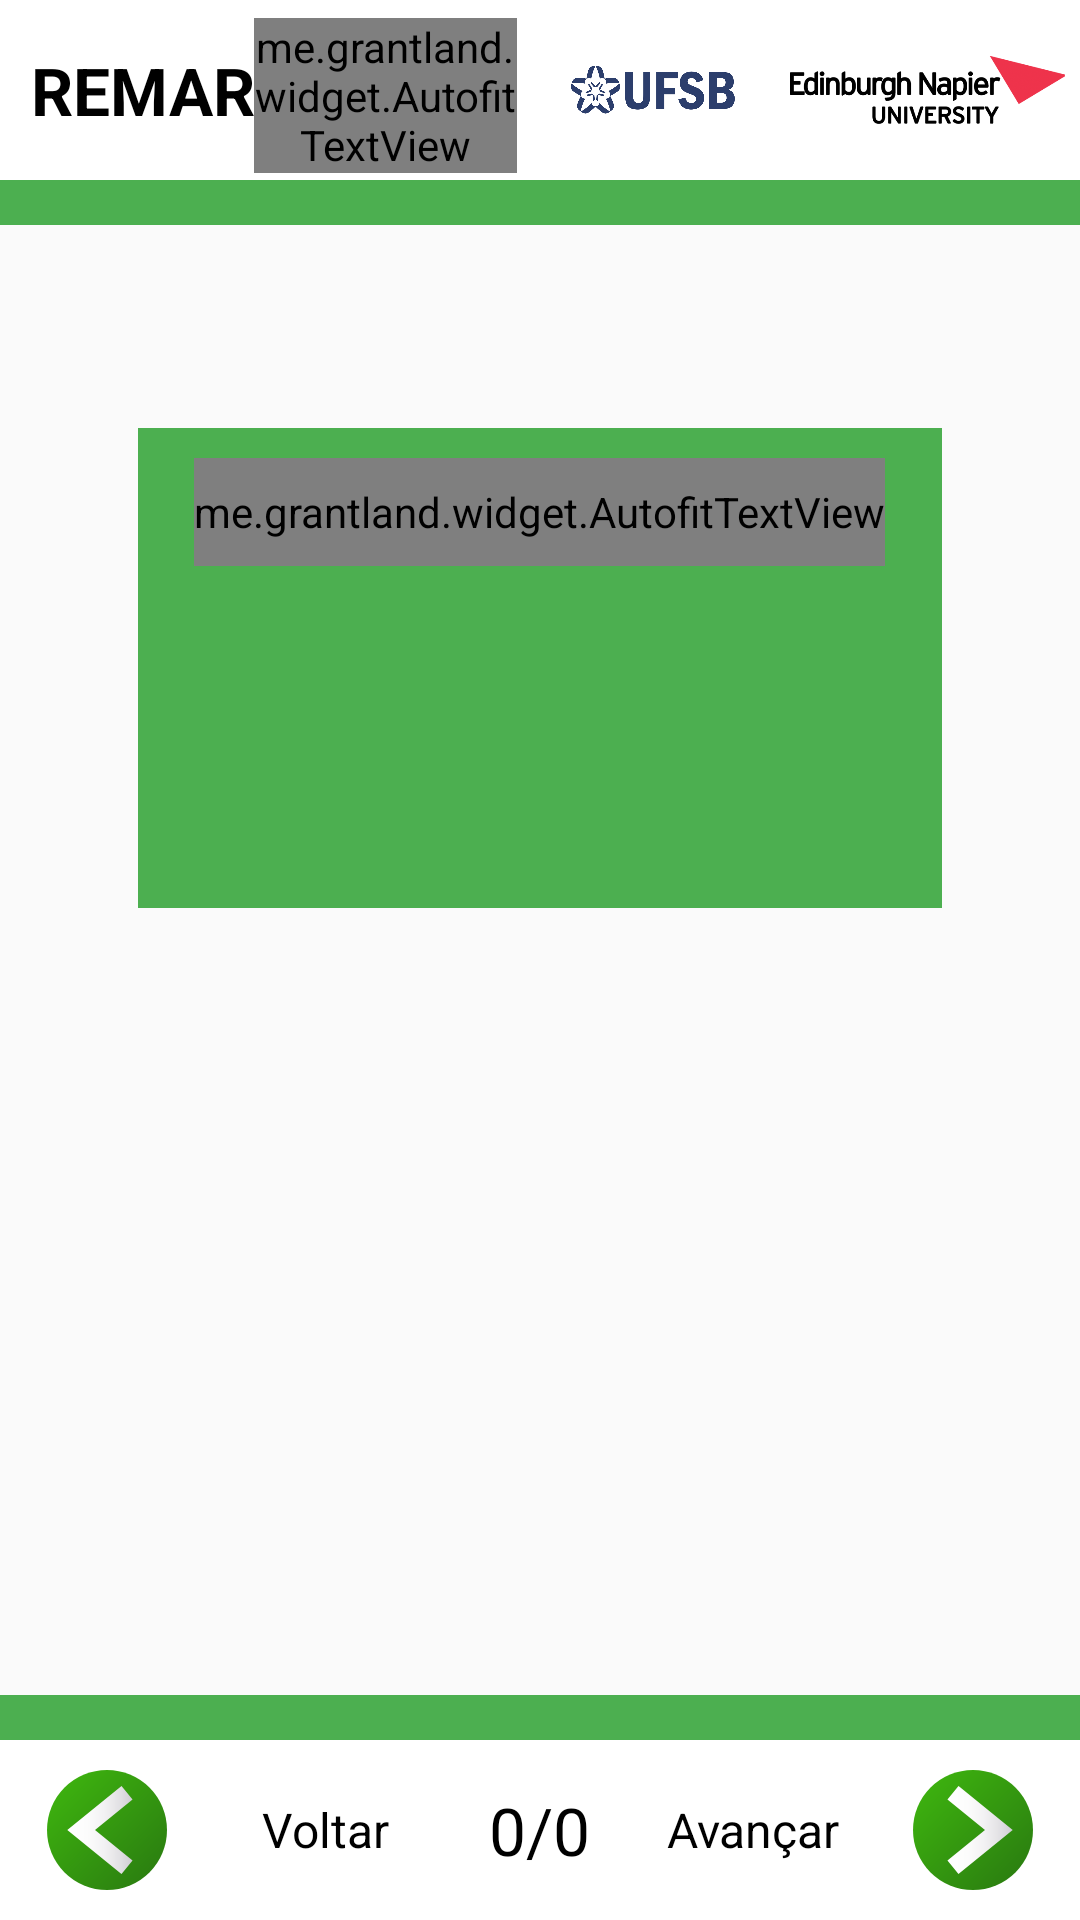

Locate icon controls on the screen. Image size 1080w x 1920h, boxes as {"x1": x1, "y1": y1, "x2": x2, "y2": y2}.
back state: {"x1": 47, "y1": 1770, "x2": 167, "y2": 1890}
next state: {"x1": 913, "y1": 1770, "x2": 1033, "y2": 1890}
